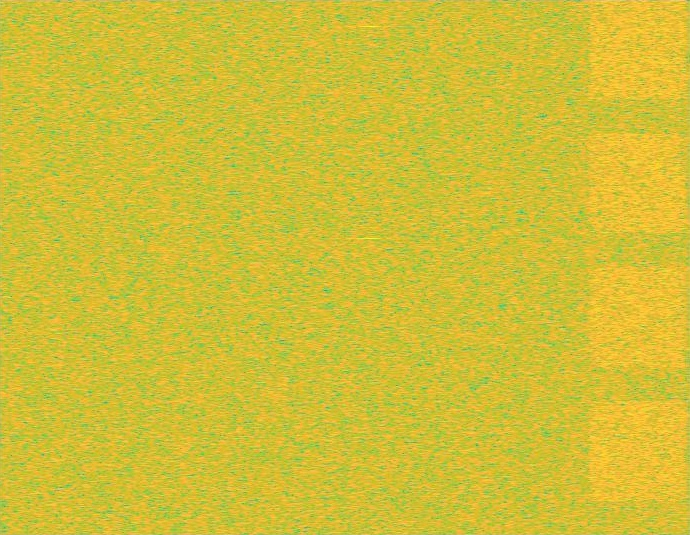5G: (586, 0, 689, 534)
Radar: (363, 0, 377, 534)
